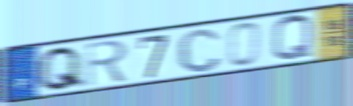0: (226, 20, 265, 69)
7: (137, 33, 170, 81)
C: (176, 26, 223, 75)
Q: (34, 44, 87, 93), (270, 13, 315, 63)
R: (84, 38, 130, 89)
